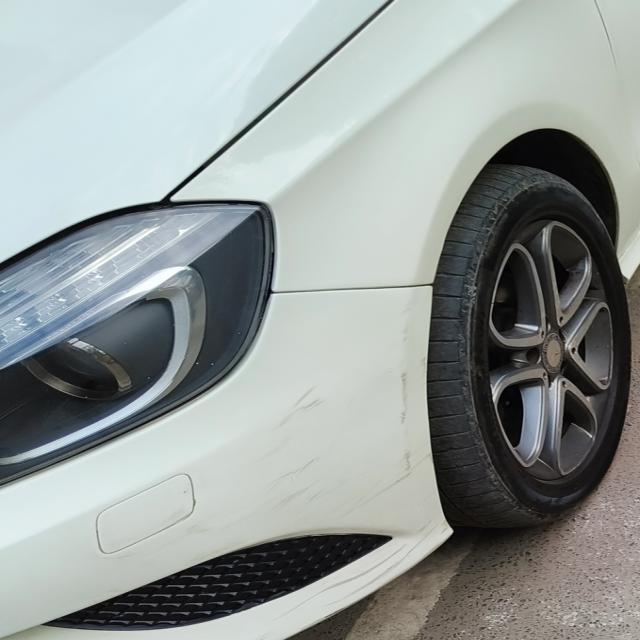scratch: (252, 352, 444, 500), (272, 516, 476, 620)
